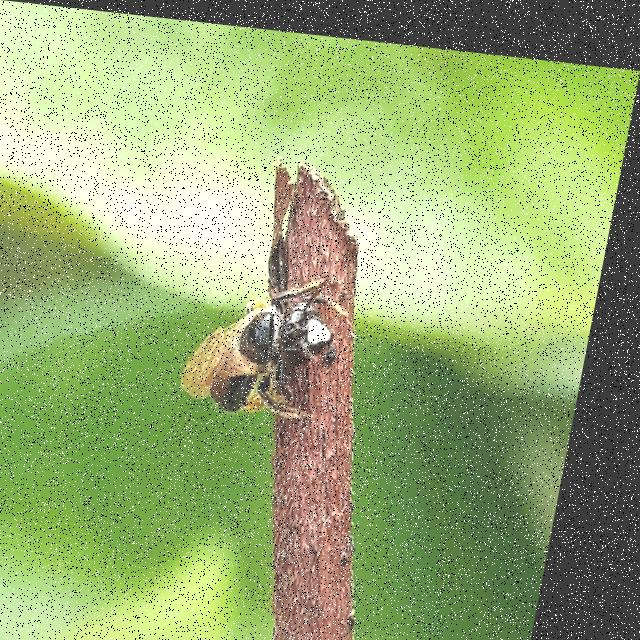Braunsapis: (189, 255, 378, 428)
